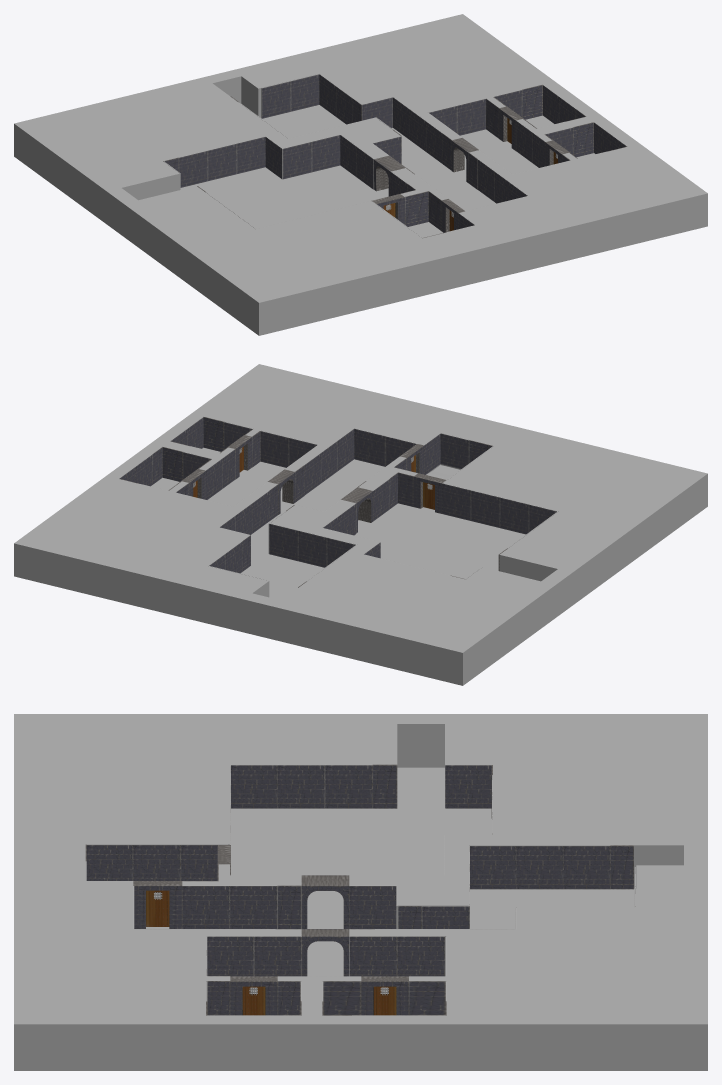
The model's file is dungeon.fbx.
The picture shows the model from 3 angles, top to bottom: view 1: azimuth 30°, elevation 25°; view 2: azimuth 150°, elevation 25°; view 3: azimuth 270°, elevation 25°; orthographic projection. The views are drawn at different scales.
Visible parts, largest first — view 1: pCube1, LP_wall2, LP_wall1, LP_wall51, LP_wall50, LP_wall53, LP_wall49, LP_wall20, LP_wall55, LP_wall_half17, LP_wall_arch, LP_wall_arch1 (+15 smaller); view 2: pCube1, wall1 (×2), LP_wall37, LP_wall10, LP_wall63, LP_wall9, LP_wall30, LP_wall41, LP_wall62, LP_wall61, LP_wall_arch, LP_wall_arch1 (+10 smaller); view 3: pCube1, wall1 (×3), LP_door (×3), LP_wall57, LP_wall58, LP_wall6, LP_wall7, LP_wall56, LP_wall59, LP_wall40, LP_wall39, LP_wall48 (+18 smaller).
Boxes of the visible parts, <box> form: pCube1: <box>14,14,707,335</box>; LP_wall2: <box>261,81,290,118</box>; LP_wall1: <box>291,74,319,111</box>; LP_wall51: <box>237,136,265,173</box>; LP_wall50: <box>283,141,311,179</box>; LP_wall53: <box>208,143,236,181</box>; LP_wall49: <box>312,134,340,172</box>; LP_wall20: <box>457,98,485,135</box>; LP_wall55: <box>179,150,207,187</box>; LP_wall_half17: <box>405,191,428,226</box>; LP_wall_arch: <box>374,155,405,196</box>; LP_wall_arch1: <box>451,138,478,182</box>; pCube1: <box>14,364,707,685</box>; wall1 (×2): <box>227,435,445,513</box>; LP_wall37: <box>354,428,385,466</box>; LP_wall10: <box>269,523,298,561</box>; LP_wall63: <box>471,490,500,527</box>; LP_wall9: <box>298,530,327,567</box>; LP_wall30: <box>260,430,288,467</box>; LP_wall41: <box>440,433,469,468</box>; LP_wall62: <box>442,483,470,520</box>; LP_wall61: <box>500,497,528,534</box>; LP_wall_arch: <box>341,487,373,533</box>; LP_wall_arch1: <box>268,469,295,514</box>; pCube1: <box>14,714,707,1070</box>; wall1 (×3): <box>133,881,408,1015</box>; LP_door (×3): <box>146,890,396,1015</box>; LP_wall57: <box>325,764,372,808</box>; LP_wall58: <box>277,764,324,808</box>; LP_wall6: <box>516,845,563,889</box>; LP_wall7: <box>563,845,610,889</box>; LP_wall56: <box>445,764,492,808</box>; LP_wall59: <box>230,764,277,808</box>; LP_wall40: <box>229,885,277,928</box>; LP_wall39: <box>182,885,229,928</box>; LP_wall48: <box>349,885,396,928</box>.
Size of the model in its own units: 3071 by 216 by 2904.
